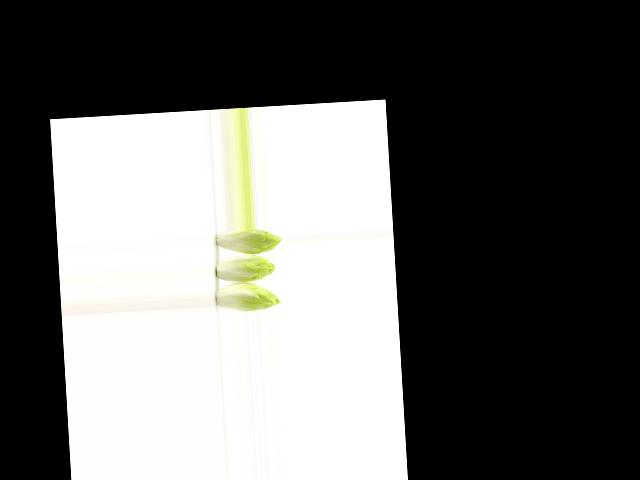lettuce: (212, 281, 281, 313)
